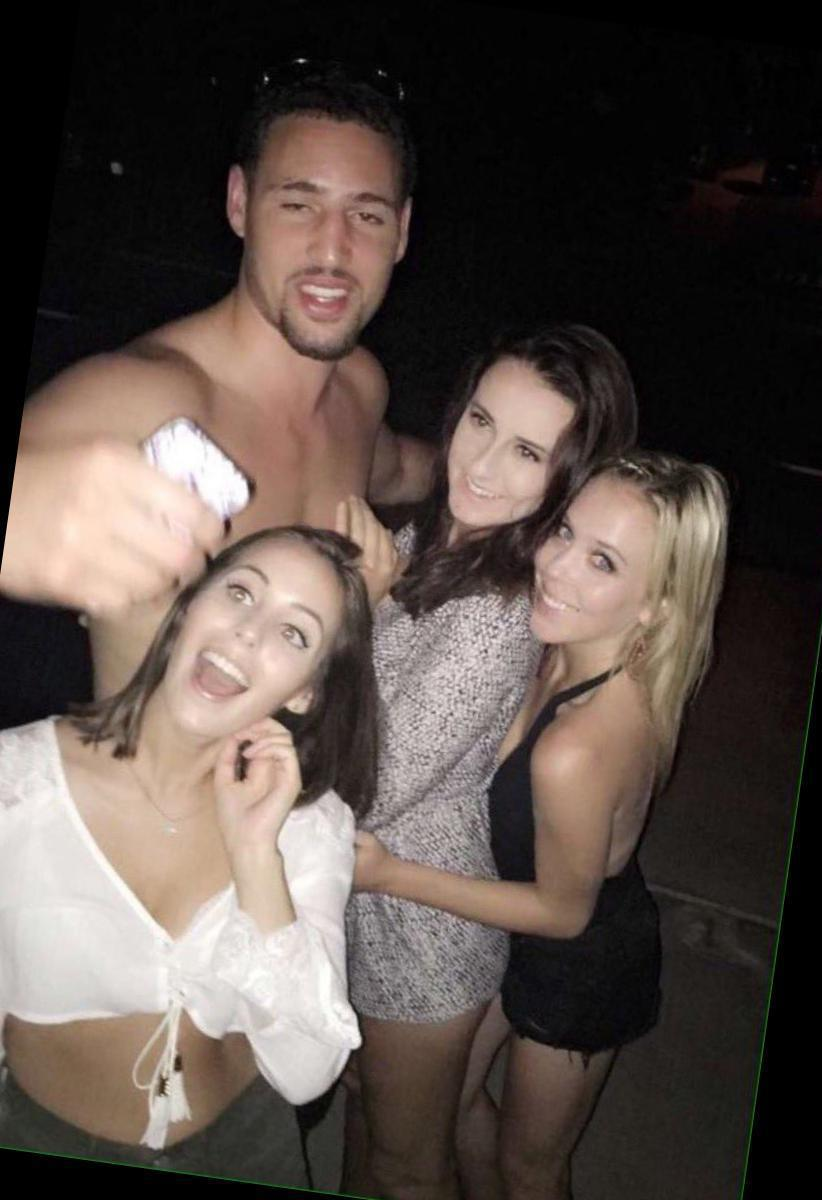Drunk: (178, 538, 327, 732), (266, 118, 387, 344), (536, 486, 647, 639), (446, 383, 571, 518)
